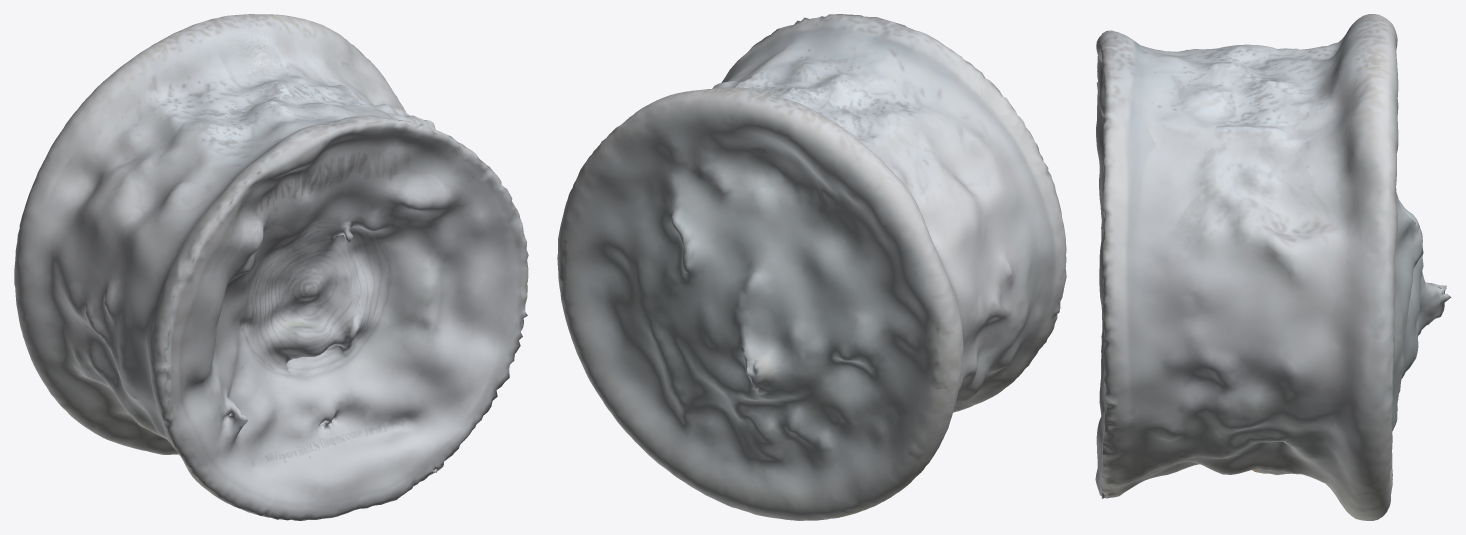
3 views of the same model, side by side, from view 1: azimuth 30°, elevation 25°; view 2: azimuth 150°, elevation 25°; view 3: azimuth 270°, elevation 25° (orthographic). The views are drawn at different scales.
Size of the model in its own units: 1.2 by 1.2 by 0.8451.
1 material, 1 textured.
